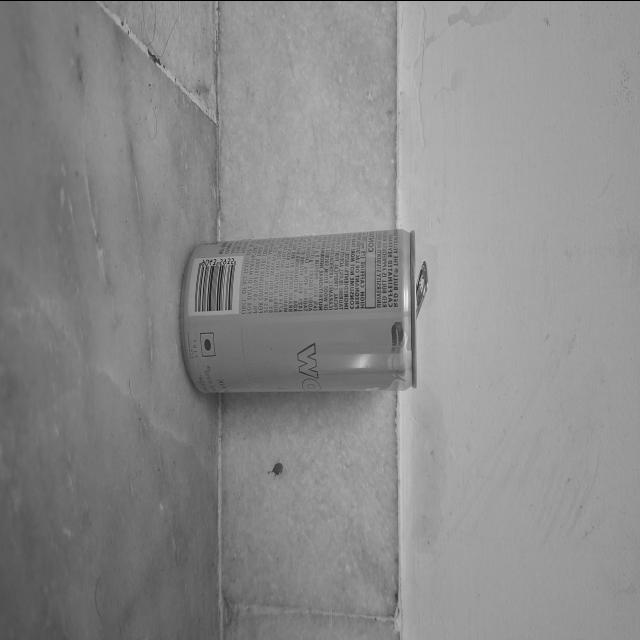Redbull Summer Edition: (179, 222, 433, 402)
